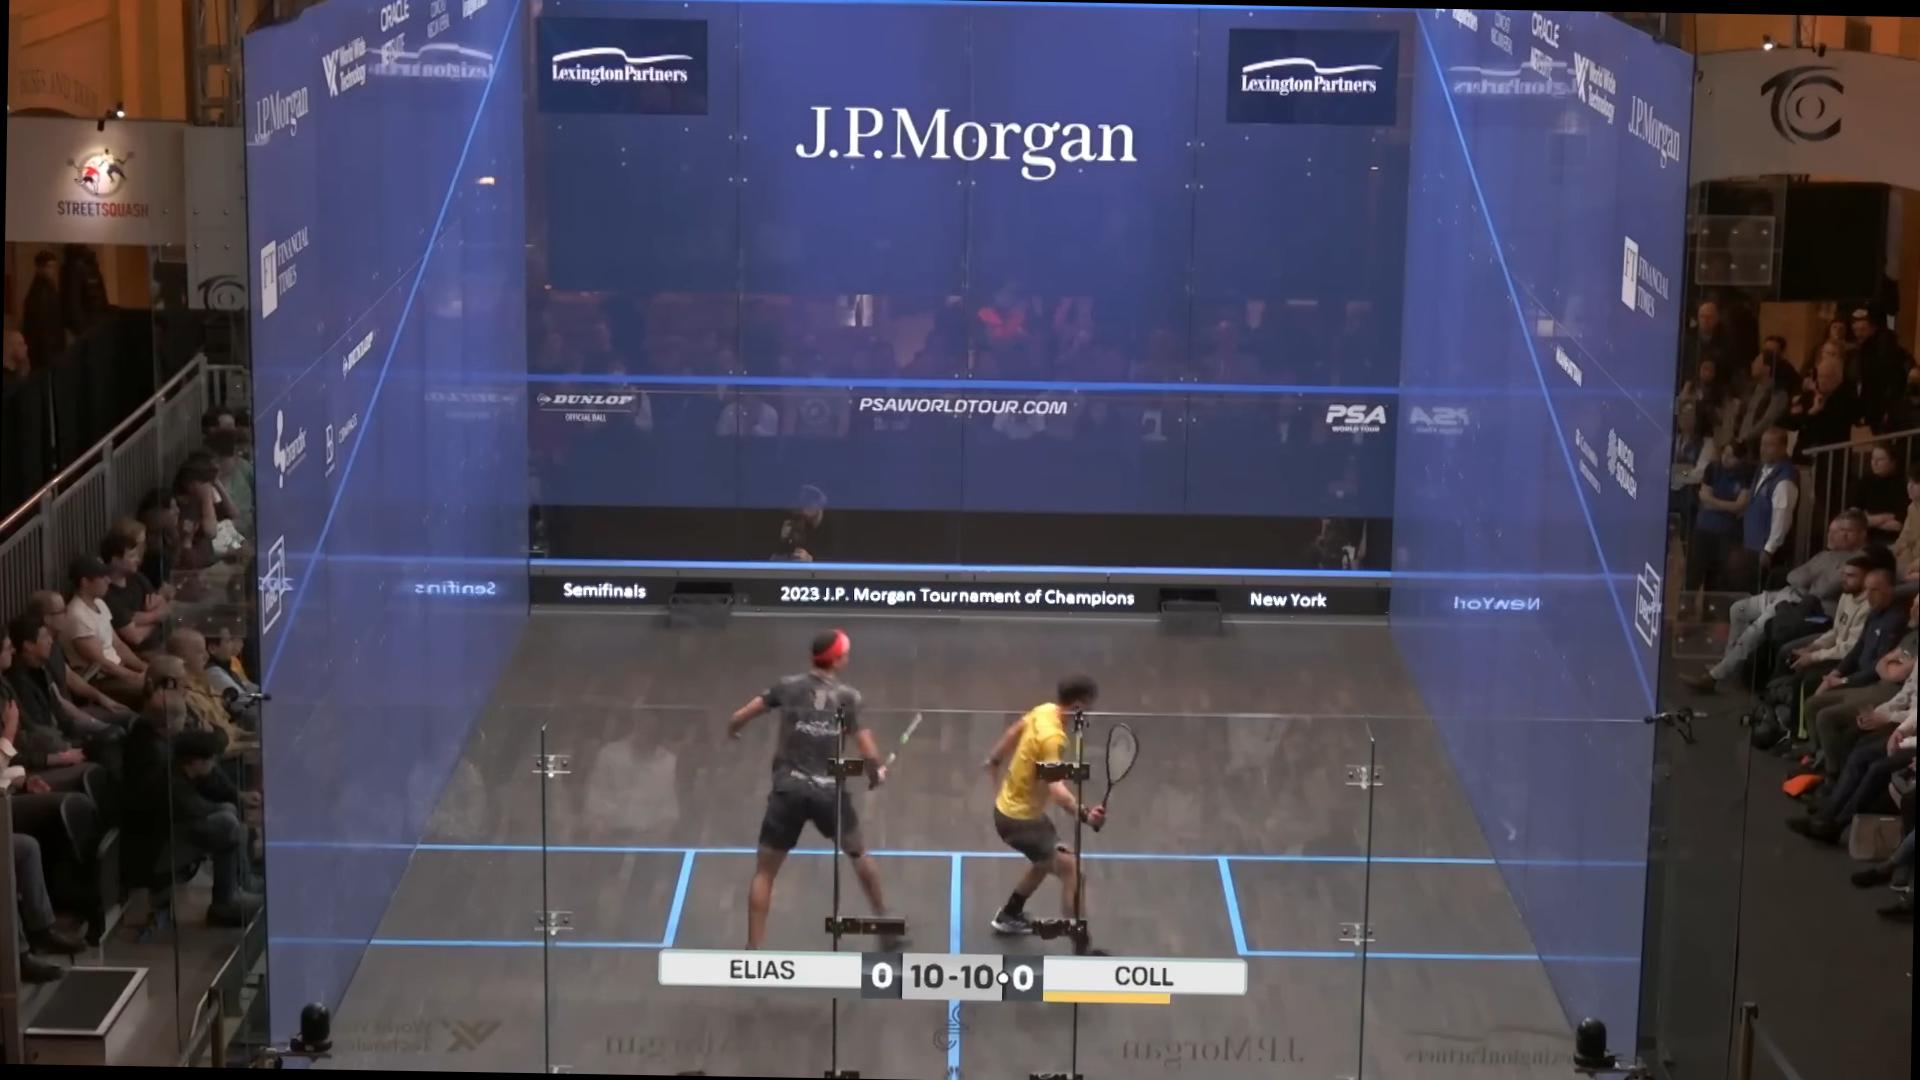Racket: (1093, 713, 1154, 822)
